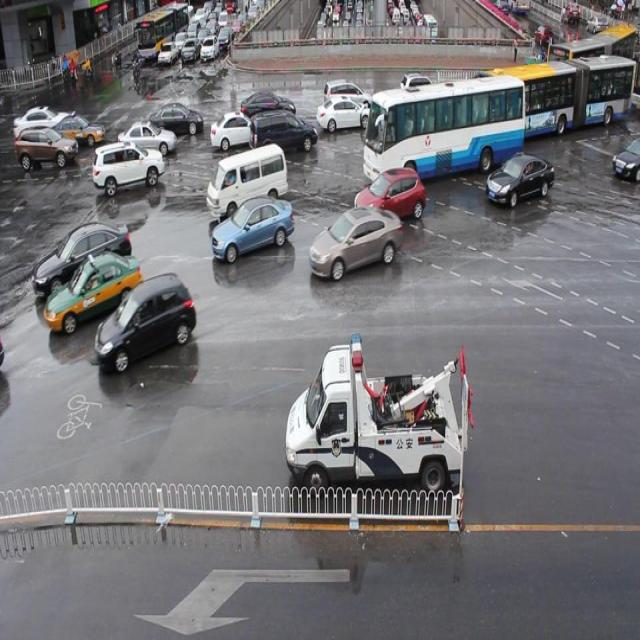bus: (286, 333, 474, 494)
car: (96, 276, 196, 369), (34, 225, 133, 299), (48, 255, 140, 332), (310, 210, 400, 275), (212, 197, 294, 260), (354, 168, 425, 221), (94, 143, 164, 192), (486, 154, 554, 204), (250, 109, 316, 152), (17, 126, 78, 170), (118, 121, 178, 156), (240, 90, 296, 122), (152, 101, 204, 135), (324, 78, 371, 115), (211, 112, 262, 146), (396, 96, 436, 137), (56, 115, 105, 147), (317, 100, 363, 130), (610, 139, 640, 181), (402, 71, 436, 106), (463, 71, 498, 103), (432, 86, 467, 118)
truck: (207, 148, 287, 215)
van: (363, 80, 524, 176), (481, 56, 640, 128)
